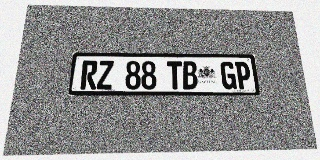8: (125, 61, 141, 89), (141, 61, 156, 89)
B: (182, 61, 198, 89)
G: (220, 61, 237, 89)
P: (235, 62, 252, 89)
R: (80, 60, 98, 89)
T: (167, 61, 182, 89)
Z: (97, 60, 114, 89)
